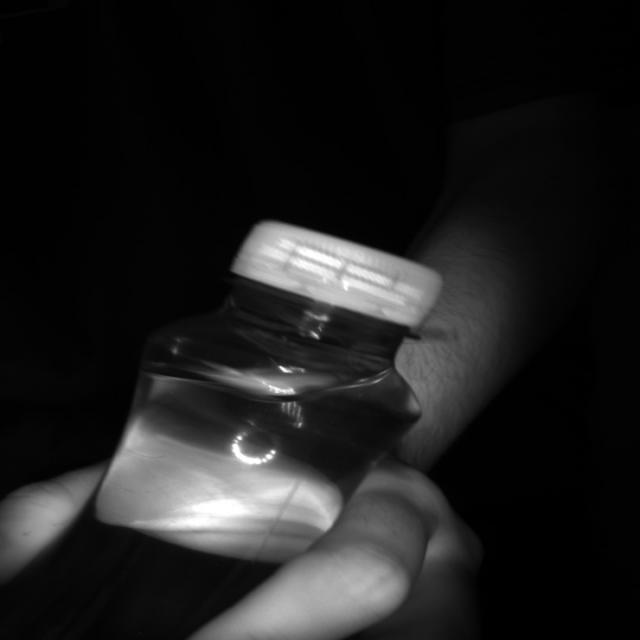Good: (224, 220, 445, 337)
